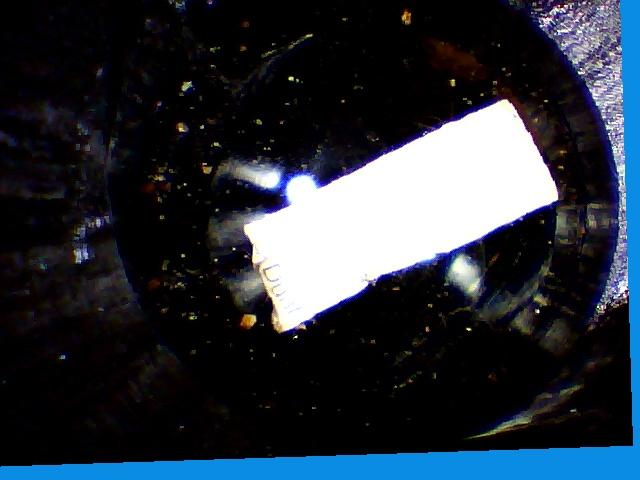megot: (230, 88, 567, 338)
